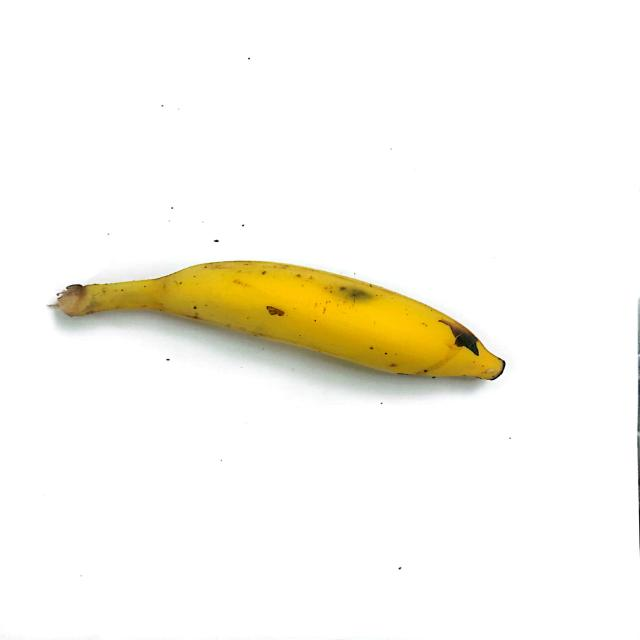fresh_banana: (63, 260, 506, 383)
